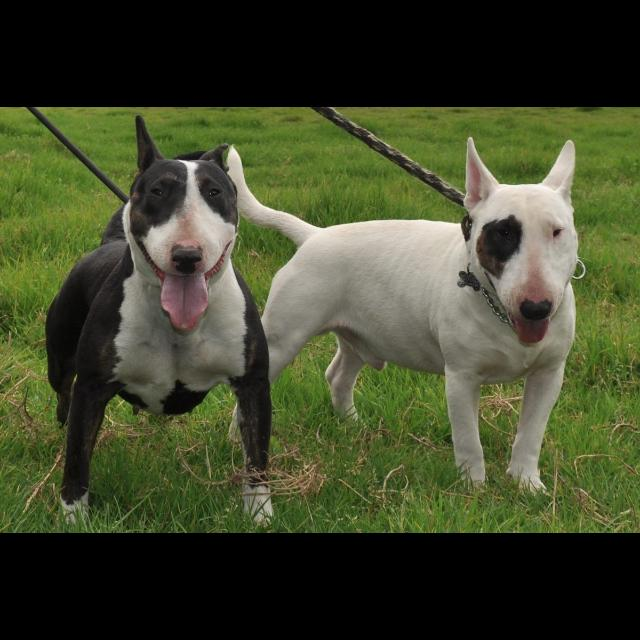bullterrier: (225, 134, 584, 499), (46, 115, 275, 529)
